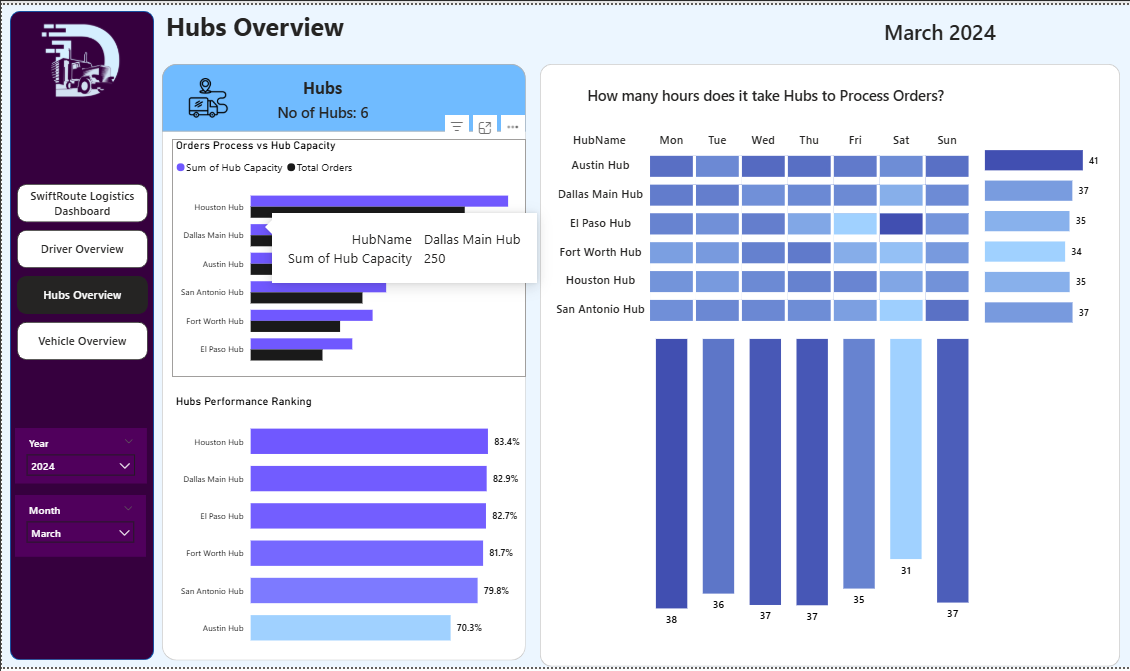

Layout of this report page (visuals, bound fields, positions):
{"tool":"powerbi","page":{"name":"Hubs Overview","canvas":[1450,850],"ordinal":2},"visuals":[{"type":"textbox","box":[205.5,0,505.8,53.7],"z":0},{"type":"shape","box":[10.3,8,185,833.5],"z":1000},{"type":"slicer","fields":{"Values":["Date Table.Year"]},"box":[17,543.5,169,70.8],"z":2000},{"type":"slicer","fields":{"Values":["Date Table.Month"]},"box":[17.1,628.9,168.4,78.9],"z":3000},{"type":"image","box":[18.4,14.5,168.4,122.4],"z":4000},{"type":"cardVisual","fields":{"Data":["Orders.Year Month Title"]},"box":[1098.7,13.2,210.5,40.8],"z":5000},{"type":"shape","box":[690.8,76.3,744.7,773.7],"z":6000},{"type":"shape","box":[205.3,76.3,467.1,765.8],"z":7000},{"type":"shape","box":[205.3,76.3,467.1,86.8],"z":8000},{"type":"textbox","box":[223.7,85.5,376.3,51.3],"z":9000},{"type":"cardVisual","fields":{"Data":["Hubs.No of Hubs"]},"box":[306.6,115.8,210.5,40.8],"z":10000},{"type":"clusteredBarChart","title":"Orders Process vs Hub Capacity","fields":{"Category":["Hubs.HubName"],"Y":["Sum(Hubs.Hub Capacity)","Orders.Total Orders"]},"box":[218.4,172.4,453.9,305.3],"z":11000},{"type":"barChart","title":"Hubs Performance Ranking","fields":{"Category":["Hubs.HubName"],"Y":["Orders.On Time Delivered Rate"]},"box":[218.4,501.3,453.9,340.8],"z":12000},{"type":"pivotTable","fields":{"Rows":["Hubs.HubName"],"Columns":["Date Table.Day"],"Values":["Orders.Avg Delivery Time (Hrs)"]},"box":[701.3,156.6,555.3,285.5],"z":13000},{"type":"columnChart","fields":{"Category":["Date Table.Day"],"Y":["Orders.Avg Delivery Time (Hrs)"]},"box":[834.2,414.5,413.2,390.8],"z":14000},{"type":"barChart","fields":{"Category":["Hubs.HubName"],"Y":["Orders.Avg Delivery Time (Hrs)"]},"box":[1256.6,173.7,178.9,240.8],"z":15000},{"type":"cardVisual","fields":{"Data":["Hubs.Hub Title"]},"box":[725,90.8,510.5,46.1],"z":16000},{"type":"pageNavigator","box":[19.7,230.3,168.4,226.3],"z":17000},{"type":"image","box":[223.7,93.4,82.9,51.3],"z":18000}]}

Visuals, with their boxes on the page's 1450x850 design canvas (x1, y1, x2, y2). These are canvas units, not pixel positions in the 1130x671 screenshot, which may show the page scaled, cropped or inside an application window:
textbox: [206, 0, 711, 54]
shape: [10, 8, 195, 842]
slicer - Date Table.Year: [17, 544, 186, 614]
slicer - Date Table.Month: [17, 629, 186, 708]
image: [18, 14, 187, 137]
cardVisual - Orders.Year Month Title: [1099, 13, 1309, 54]
shape: [691, 76, 1436, 850]
shape: [205, 76, 672, 842]
shape: [205, 76, 672, 163]
textbox: [224, 86, 600, 137]
cardVisual - Hubs.No of Hubs: [307, 116, 517, 157]
"Orders Process vs Hub Capacity" clusteredBarChart: [218, 172, 672, 478]
"Hubs Performance Ranking" barChart: [218, 501, 672, 842]
pivotTable - Hubs.HubName x Date Table.Day: [701, 157, 1257, 442]
columnChart - Date Table.Day x Orders.Avg Delivery Time (Hrs): [834, 414, 1247, 805]
barChart - Hubs.HubName x Orders.Avg Delivery Time (Hrs): [1257, 174, 1436, 414]
cardVisual - Hubs.Hub Title: [725, 91, 1236, 137]
pageNavigator: [20, 230, 188, 457]
image: [224, 93, 307, 145]
